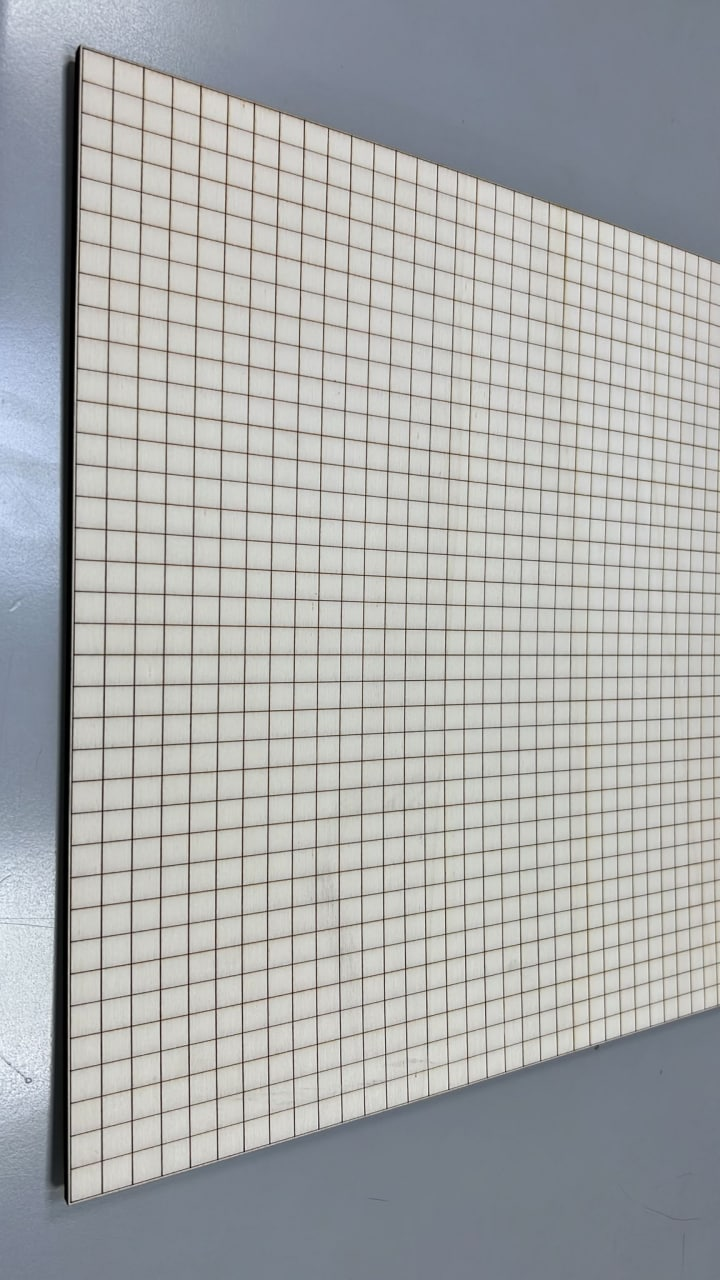grid: (54, 42, 720, 1228)
